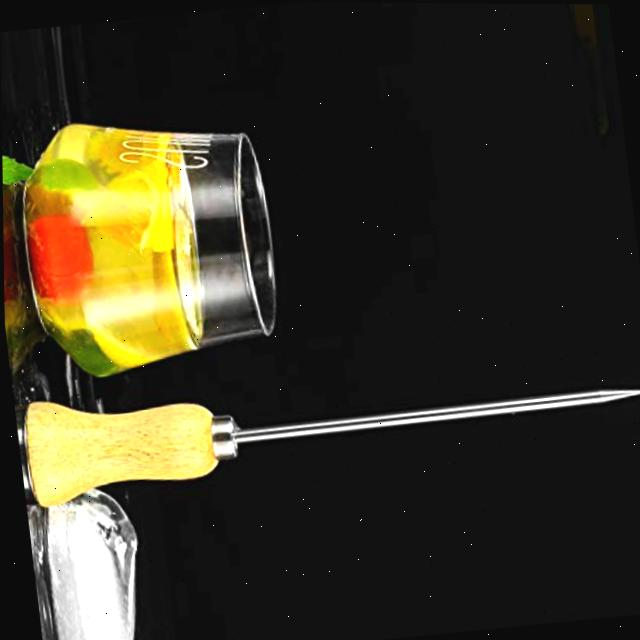ice pick: (11, 338, 640, 514)
